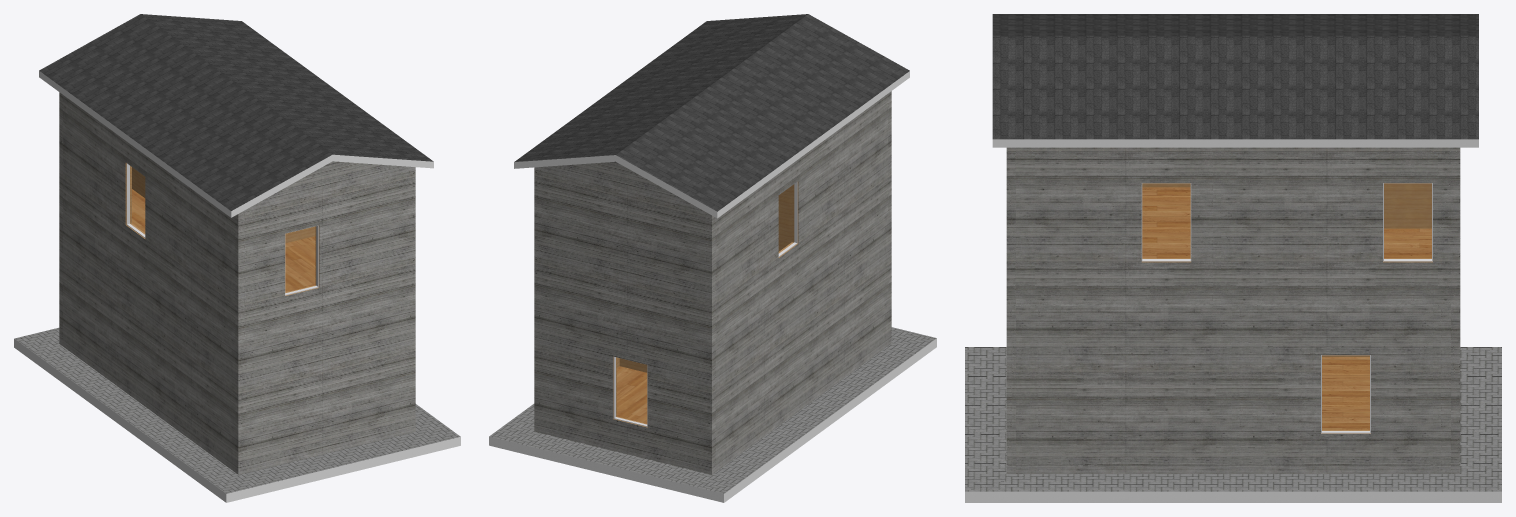
The picture shows the model from 3 angles, left to right: view 1: azimuth 30°, elevation 25°; view 2: azimuth 150°, elevation 25°; view 3: azimuth 270°, elevation 25°; orthographic projection. The views are drawn at different scales.
Parts seen in each view (by area): view 1: コンクリート - 杉板型枠, 屋根 - アスファルト屋根板 グレー, 外構 - インターロッキング グレー, ◇壁材1, 0001FLDK フローリング 床, 0001FLDK 建具, 金属-ステンレス; view 2: コンクリート - 杉板型枠, 屋根 - アスファルト屋根板 グレー, 外構 - インターロッキング グレー, ◇壁材1, 0001FLDK 建具, 0001FLDK フローリング 床, 金属-ステンレス; view 3: コンクリート - 杉板型枠, 屋根 - アスファルト屋根板 グレー, 外構 - インターロッキング グレー, ◇壁材1, 0001FLDK フローリング 床, 0001FLDK 建具, 金属-ステンレス.
Part boxes in pixels (x1,y1,x2,y2): コンクリート - 杉板型枠: [59, 92, 415, 474]; 屋根 - アスファルト屋根板 グレー: [39, 14, 433, 210]; 外構 - インターロッキング グレー: [14, 327, 460, 493]; ◇壁材1: [14, 71, 460, 502]; 0001FLDK フローリング 床: [132, 189, 315, 292]; 0001FLDK 建具: [125, 163, 319, 295]; 金属-ステンレス: [126, 163, 318, 295]; コンクリート - 杉板型枠: [534, 91, 891, 474]; 屋根 - アスファルト屋根板 グレー: [514, 14, 909, 211]; 外構 - インターロッキング グレー: [489, 327, 936, 493]; ◇壁材1: [489, 71, 936, 502]; 0001FLDK 建具: [613, 181, 798, 427]; 0001FLDK フローリング 床: [617, 366, 647, 423]; 金属-ステンレス: [613, 182, 797, 426]; コンクリート - 杉板型枠: [1006, 147, 1460, 473]; 屋根 - アスファルト屋根板 グレー: [992, 14, 1478, 139]; 外構 - インターロッキング グレー: [965, 347, 1501, 491]; ◇壁材1: [965, 139, 1501, 502]; 0001FLDK フローリング 床: [1142, 187, 1431, 429]; 0001FLDK 建具: [1142, 183, 1432, 433]; 金属-ステンレス: [1141, 183, 1432, 433].
Bounding box in the file's own units: 5.49 × 6.97 × 8.61.
8 materials, 6 textured.
